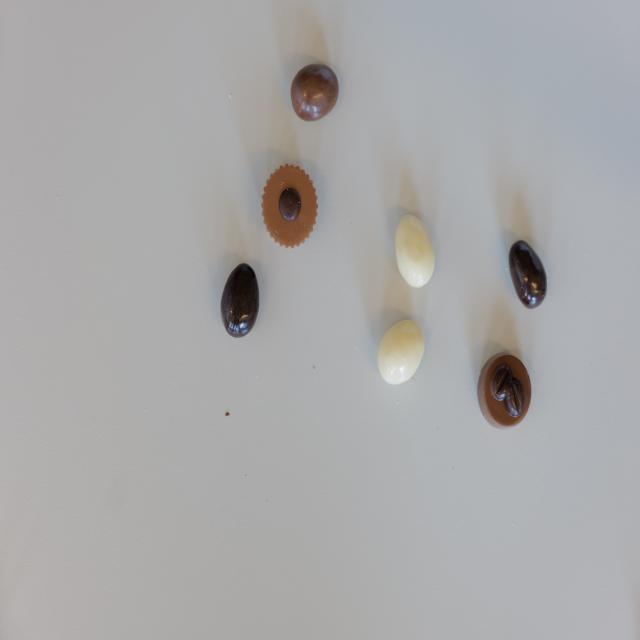Arabia: (478, 353, 532, 429)
Jelly_Black: (220, 262, 259, 339), (509, 240, 548, 309)
Jelly_Milk: (290, 62, 339, 122)
Jelly_White: (376, 319, 426, 386), (394, 213, 437, 288)
Noblesse: (261, 161, 319, 250)
